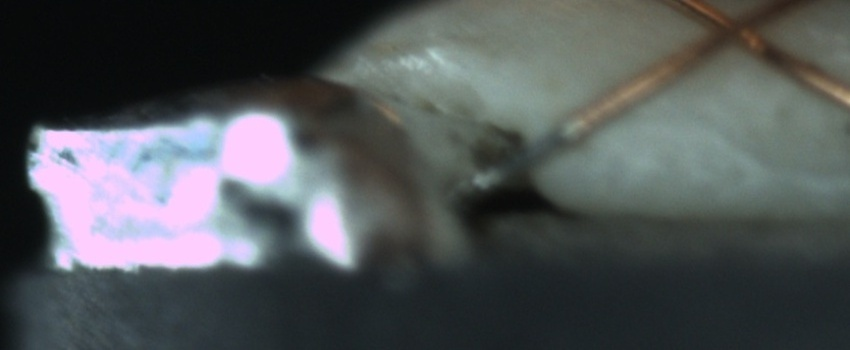CL: (701, 4, 776, 57)
TS: (459, 114, 582, 199)
TTCW: (463, 86, 624, 200)
